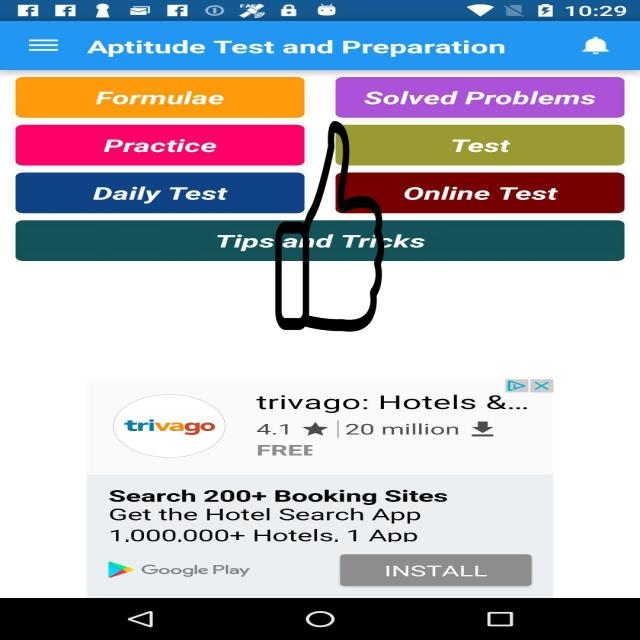privacy zuckering: (274, 121, 386, 332)
